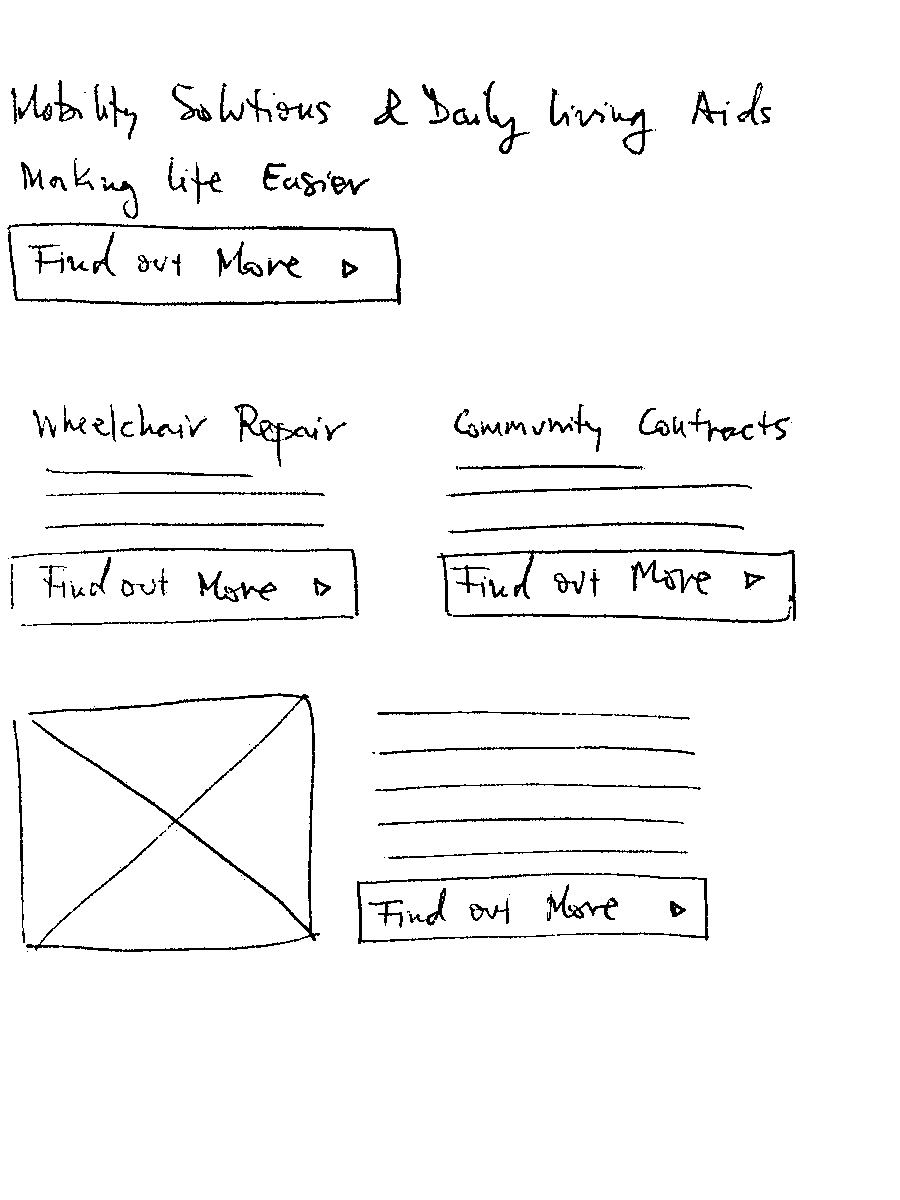Button: (2, 214, 415, 309), (435, 543, 804, 631), (2, 542, 366, 629), (353, 867, 717, 949)
Image: (11, 689, 320, 956)
Paragraph: (367, 698, 706, 860), (38, 462, 347, 542), (438, 458, 767, 533)
